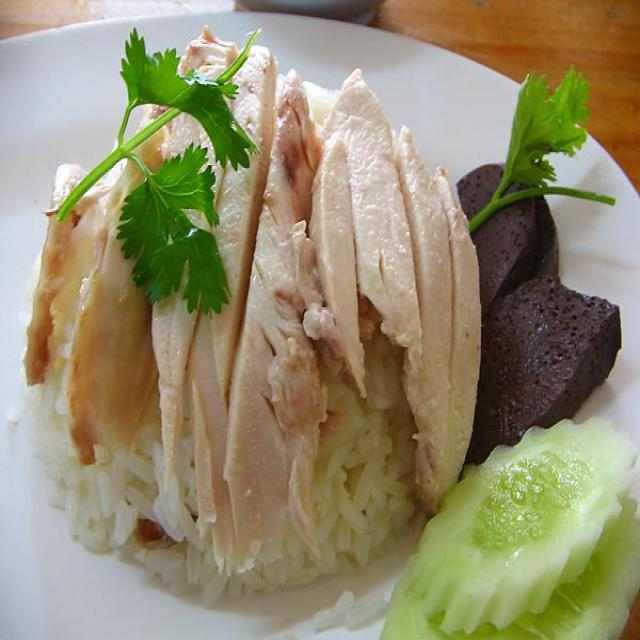Hainanese chicken rice: (11, 44, 614, 619)
carb: (31, 364, 412, 602)
meat: (26, 88, 492, 423)
vegetable: (430, 461, 591, 581)
